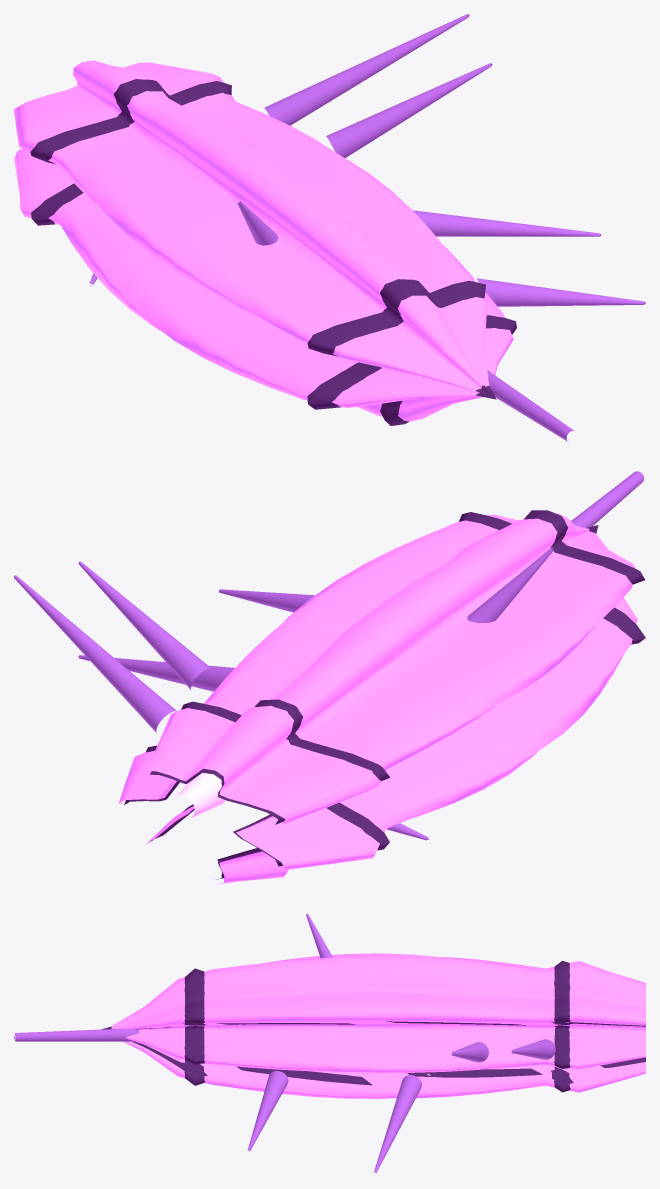
Rendered from voidborn_fighter.glb.
3 renders of one model, top to bottom at view 1: azimuth 30°, elevation 25°; view 2: azimuth 150°, elevation 25°; view 3: azimuth 270°, elevation 25°, orthographic. The views are drawn at different scales.
Parts seen in each view (by area): view 1: voidborn_fighter; view 2: voidborn_fighter; view 3: voidborn_fighter.
Part boxes in pixels (x1,y1,x2,y2): voidborn_fighter: (14, 14, 645, 441); voidborn_fighter: (14, 471, 645, 884); voidborn_fighter: (14, 914, 645, 1173).
Bounding box in the file's own units: 2.11 × 0.9173 × 3.67.
